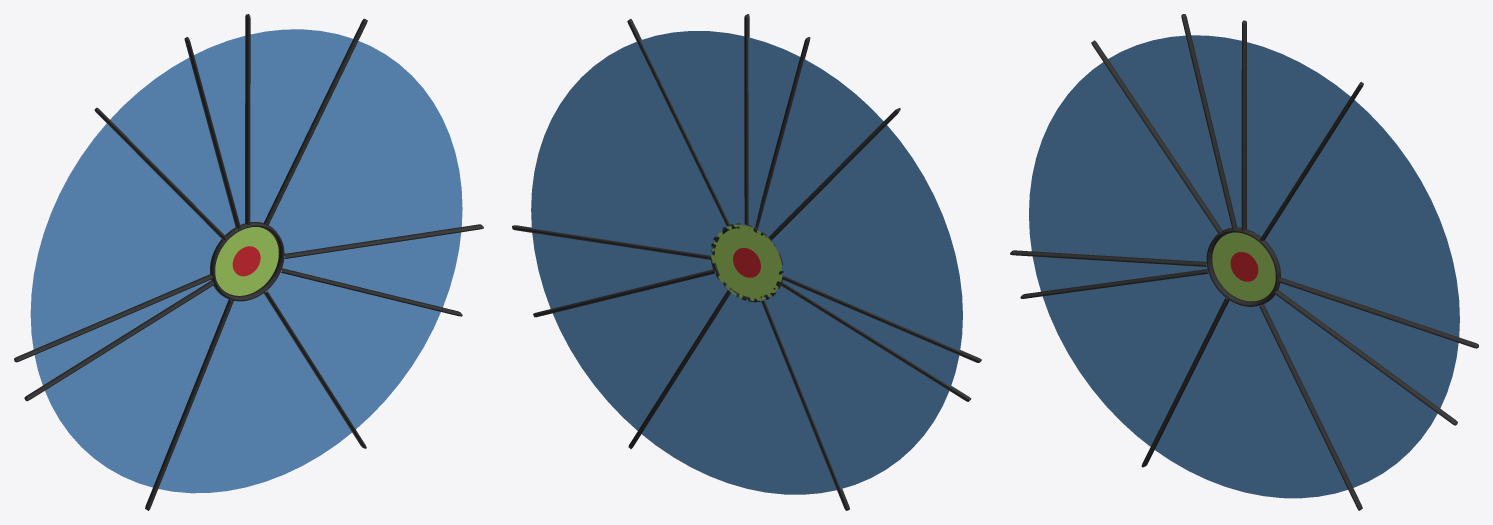
Rendered from Darchary_L4.fbx.
The picture shows the model from 3 angles, left to right: view 1: azimuth 30°, elevation 25°; view 2: azimuth 150°, elevation 25°; view 3: azimuth 330°, elevation 25°; orthographic projection.
Parts seen in each view (by area): view 1: L4_F, L4_H, L4_B, L4_D, L4_E, L4_DarkLine, L4_A, L4_B2x, L4_I, L4_E2x, L4_H2x, L4_C (+4 smaller); view 2: L4_F, L4_B, L4_H, L4_D, L4_E, L4_A, L4_DarkLine, L4_B2x, L4_I, L4_E2x, L4_H2x, L4_C (+4 smaller); view 3: L4_F, L4_B, L4_H, L4_D, L4_DarkLine, L4_E, L4_A, L4_B2x, L4_I, L4_E2x, L4_H2x, L4_C (+4 smaller).
Boxes of the visible parts, box(x1,y1,x2,y2) form: L4_F: box(45, 286, 230, 487); L4_H: box(67, 147, 221, 334); L4_B: box(269, 84, 419, 253); L4_D: box(266, 270, 440, 429); L4_E: box(177, 291, 329, 444); L4_DarkLine: box(14, 14, 483, 510); L4_A: box(250, 29, 352, 222); L4_B2x: box(337, 41, 462, 233); L4_I: box(110, 58, 235, 234); L4_E2x: box(158, 397, 351, 493); L4_H2x: box(30, 123, 129, 349); L4_C: box(282, 232, 461, 307); L4_F: box(762, 286, 949, 488); L4_B: box(573, 85, 728, 257); L4_H: box(771, 148, 926, 335); L4_D: box(552, 271, 727, 430); L4_E: box(664, 291, 817, 445); L4_A: box(640, 31, 745, 225); L4_DarkLine: box(512, 14, 981, 510); L4_B2x: box(531, 42, 657, 234); L4_I: box(757, 59, 883, 237); L4_E2x: box(641, 399, 836, 494); L4_H2x: box(864, 125, 962, 350); L4_C: box(532, 233, 714, 308); L4_F: box(1042, 272, 1227, 446); L4_B: box(1265, 133, 1417, 322); L4_H: box(1065, 97, 1217, 264); L4_D: box(1264, 294, 1437, 487); L4_DarkLine: box(1010, 14, 1478, 510); L4_E: box(1174, 300, 1325, 449); L4_A: box(1247, 42, 1350, 236); L4_B2x: box(1333, 100, 1459, 337); L4_I: box(1108, 35, 1231, 230); L4_E2x: box(1155, 412, 1347, 498); L4_H2x: box(1029, 62, 1126, 253); L4_C: box(1278, 283, 1458, 408).
Bounding box in the file's own units: 218 × 211 × 2.01.
